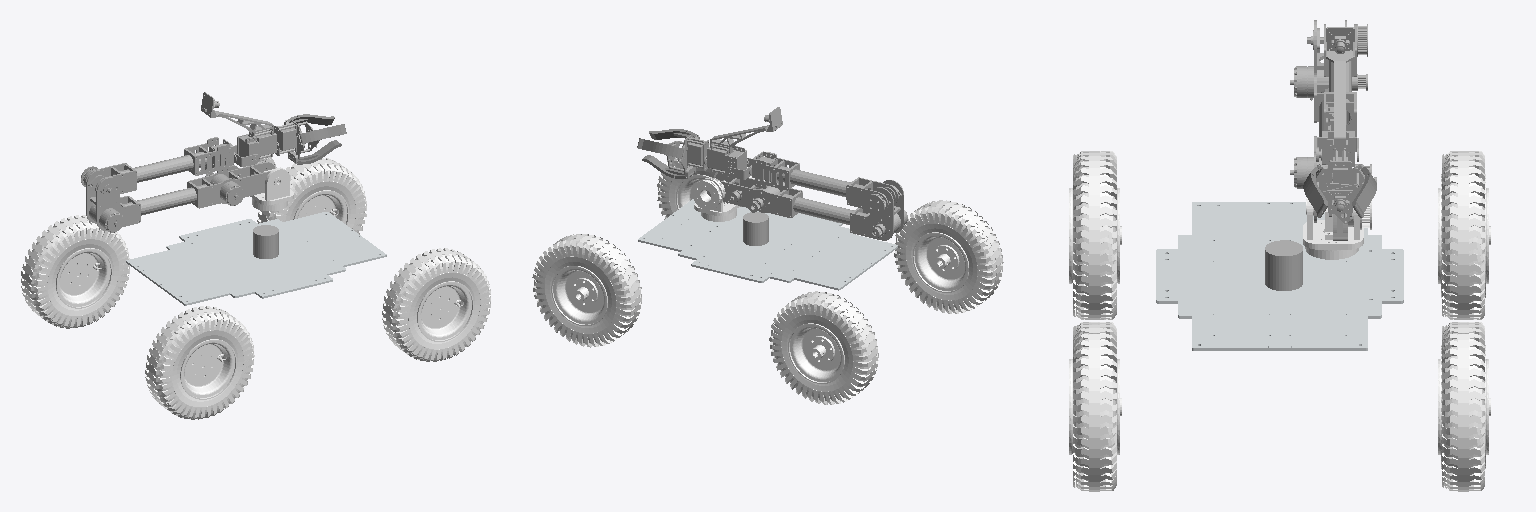
URDF robot description (explorer_sc_arm_description):
<robot
  name="explorer_sc_arm_description">
  <link
    name="base_link">
    <inertial>
      <origin
        xyz="8.38725949350081E-06 -2.28182795042473E-05 -0.002"
        rpy="0 0 0" />
      <mass
        value="1.29696154829847" />
      <inertia
        ixx="0.00839947805440125"
        ixy="4.27932542927772E-06"
        ixz="-6.97356058924118E-19"
        iyy="0.0193274605227349"
        iyz="-8.81459604938603E-19"
        izz="0.0277234800130074" />
    </inertial>
    <visual>
      <origin
        xyz="0 0 0"
        rpy="0 0 0" />
      <geometry>
        <mesh
          filename="package://explorer_sc_arm_description/meshes/base_link.STL" />
      </geometry>
      <material
        name="">
        <color
          rgba="0.898039215686275 0.917647058823529 0.929411764705882 1" />
      </material>
    </visual>
    <collision>
      <origin
        xyz="0 0 0"
        rpy="0 0 0" />
      <geometry>
        <mesh
          filename="package://explorer_sc_arm_description/meshes/base_link.STL" />
      </geometry>
    </collision>
  </link>
  <link
    name="front_back_base">
    <inertial>
      <origin
        xyz="0 -3.46944695195361E-18 0"
        rpy="0 0 0" />
      <mass
        value="0.098174770424681" />
      <inertia
        ixx="3.5792885050665E-05"
        ixy="0"
        ixz="1.6944868265256E-20"
        iyy="3.5792885050665E-05"
        iyz="-3.54804331259052E-23"
        izz="3.06796157577128E-05" />
    </inertial>
    <visual>
      <origin
        xyz="0 0 0"
        rpy="0 0 0" />
      <geometry>
        <mesh
          filename="package://explorer_sc_arm_description/meshes/front_back_base.STL" />
      </geometry>
      <material
        name="">
        <color
          rgba="0.752941176470588 0.752941176470588 0.752941176470588 1" />
      </material>
    </visual>
    <collision>
      <origin
        xyz="0 0 0"
        rpy="0 0 0" />
      <geometry>
        <mesh
          filename="package://explorer_sc_arm_description/meshes/front_back_base.STL" />
      </geometry>
    </collision>
  </link>
  <joint
    name="joint_front_back"
    type="fixed">
    <origin
      xyz="0.0244119960002226 0.00539021811108908 0.025"
      rpy="6.93889390390723E-18 -1.05100847812493E-16 1.5707963267949" />
    <parent
      link="base_link" />
    <child
      link="front_back_base" />
    <axis
      xyz="0 0 0" />
  </joint>
  <link
    name="left_up_wheel_link">
    <inertial>
      <origin
        xyz="0.00870876387834738 1.54226130000823E-05 -2.55700449977581E-06"
        rpy="0 0 0" />
      <mass
        value="0.826121794411708" />
      <inertia
        ixx="0.00519099163146927"
        ixy="-6.12960018275808E-07"
        ixz="1.49528081696616E-08"
        iyy="0.00284682541456147"
        iyz="-3.01153060214499E-07"
        izz="0.00284435059319059" />
    </inertial>
    <visual>
      <origin
        xyz="0 0 0"
        rpy="0 0 0" />
      <geometry>
        <mesh
          filename="package://explorer_sc_arm_description/meshes/left_up_wheel_link.STL" />
      </geometry>
      <material
        name="">
        <color
          rgba="1 1 1 1" />
      </material>
    </visual>
    <collision>
      <origin
        xyz="0 0 0"
        rpy="0 0 0" />
      <geometry>
        <mesh
          filename="package://explorer_sc_arm_description/meshes/left_up_wheel_link.STL" />
      </geometry>
    </collision>
  </link>
  <joint
    name="left_up_wheel_base_joint"
    type="revolute">
    <origin
      xyz="0.22551 -0.23931 -0.091104"
      rpy="-7.0265E-33 1.1082E-16 -6.5165E-17" />
    <parent
      link="front_back_base" />
    <child
      link="left_up_wheel_link" />
    <axis
      xyz="-1 0 0" />
    <limit
      lower="-3.14"
      upper="3.14"
      effort="0"
      velocity="0" />
  </joint>
  <link
    name="right_up_wheel_link">
    <inertial>
      <origin
        xyz="0.00870876387834746 1.54226130003043E-05 -2.55700449990071E-06"
        rpy="0 0 0" />
      <mass
        value="0.826121794411715" />
      <inertia
        ixx="0.00519099163146931"
        ixy="-6.12960018276579E-07"
        ixz="1.49528081688249E-08"
        iyy="0.00284682541456149"
        iyz="-3.01153060214495E-07"
        izz="0.00284435059319062" />
    </inertial>
    <visual>
      <origin
        xyz="0 0 0"
        rpy="0 0 0" />
      <geometry>
        <mesh
          filename="package://explorer_sc_arm_description/meshes/right_up_wheel_link.STL" />
      </geometry>
      <material
        name="">
        <color
          rgba="1 1 1 1" />
      </material>
    </visual>
    <collision>
      <origin
        xyz="0 0 0"
        rpy="0 0 0" />
      <geometry>
        <mesh
          filename="package://explorer_sc_arm_description/meshes/right_up_wheel_link.STL" />
      </geometry>
    </collision>
  </link>
  <joint
    name="right_up_wheel_base_joint"
    type="revolute">
    <origin
      xyz="-0.25469 -0.23931 -0.091104"
      rpy="-3.9302E-35 0 0" />
    <parent
      link="front_back_base" />
    <child
      link="right_up_wheel_link" />
    <axis
      xyz="-1 0 0" />
    <limit
      lower="-3.14"
      upper="3.14"
      effort="0"
      velocity="0" />
  </joint>
  <link
    name="left_down_wheel_link">
    <inertial>
      <origin
        xyz="0.00870876326608666 1.47924310675007E-05 -5.06424372227754E-06"
        rpy="0 0 0" />
      <mass
        value="0.82612178476788" />
      <inertia
        ixx="0.00519099162848345"
        ixy="-6.02117473244471E-07"
        ixz="1.15802053853405E-07"
        iyy="0.00284666020010173"
        iyz="-6.87193740751131E-07"
        izz="0.00284451578321366" />
    </inertial>
    <visual>
      <origin
        xyz="0 0 0"
        rpy="0 0 0" />
      <geometry>
        <mesh
          filename="package://explorer_sc_arm_description/meshes/left_down_wheel_link.STL" />
      </geometry>
      <material
        name="">
        <color
          rgba="1 1 1 1" />
      </material>
    </visual>
    <collision>
      <origin
        xyz="0 0 0"
        rpy="0 0 0" />
      <geometry>
        <mesh
          filename="package://explorer_sc_arm_description/meshes/left_down_wheel_link.STL" />
      </geometry>
    </collision>
  </link>
  <joint
    name="left_down_wheel_base_joint"
    type="revolute">
    <origin
      xyz="0.22551 0.28813 -0.091104"
      rpy="-7.0265E-33 1.1082E-16 -6.5165E-17" />
    <parent
      link="front_back_base" />
    <child
      link="left_down_wheel_link" />
    <axis
      xyz="-1 0 0" />
    <limit
      lower="-3.14"
      upper="3.14"
      effort="0"
      velocity="0" />
  </joint>
  <link
    name="right_down_wheel_link">
    <inertial>
      <origin
        xyz="0.00870876300438408 1.47921874403822E-05 -5.06420416705733E-06"
        rpy="0 0 0" />
      <mass
        value="0.826121790600066" />
      <inertia
        ixx="0.00519099164551254"
        ixy="-6.02124665108587E-07"
        ixz="1.15803221547188E-07"
        iyy="0.00284666021630053"
        iyz="-6.87193739249559E-07"
        izz="0.00284451579941808" />
    </inertial>
    <visual>
      <origin
        xyz="0 0 0"
        rpy="0 0 0" />
      <geometry>
        <mesh
          filename="package://explorer_sc_arm_description/meshes/right_down_wheel_link.STL" />
      </geometry>
      <material
        name="">
        <color
          rgba="1 1 1 1" />
      </material>
    </visual>
    <collision>
      <origin
        xyz="0 0 0"
        rpy="0 0 0" />
      <geometry>
        <mesh
          filename="package://explorer_sc_arm_description/meshes/right_down_wheel_link.STL" />
      </geometry>
    </collision>
  </link>
  <joint
    name="right_down_wheel_base_joint"
    type="revolute">
    <origin
      xyz="-0.25469 0.28813 -0.091104"
      rpy="-7.0265E-33 1.1082E-16 -6.5165E-17" />
    <parent
      link="front_back_base" />
    <child
      link="right_down_wheel_link" />
    <axis
      xyz="-1 0 0" />
    <limit
      lower="-3.14"
      upper="3.14"
      effort="0"
      velocity="0" />
  </joint>
  <link
    name="frame_link">
    <inertial>
      <origin
        xyz="-0.00888730788410459 0.0203366819685348 -0.0126291880908399"
        rpy="0 0 0" />
      <mass
        value="3.26161515055018" />
      <inertia
        ixx="0.126291282912855"
        ixy="-0.0003154449627657"
        ixz="-0.00101868654302903"
        iyy="0.0607337880926759"
        iyz="0.000453009692812155"
        izz="0.165446833262686" />
    </inertial>
    <visual>
      <origin
        xyz="0 0 0"
        rpy="0 0 0" />
      <geometry>
        <mesh
          filename="package://explorer_sc_arm_description/meshes/frame_link.STL" />
      </geometry>
      <material
        name="">
        <color
          rgba="0.6 0.6 0.6 1" />
      </material>
    </visual>
    <collision>
      <origin
        xyz="0 0 0"
        rpy="0 0 0" />
      <geometry>
        <mesh
          filename="package://explorer_sc_arm_description/meshes/frame_link.STL" />
      </geometry>
    </collision>
  </link>
  <joint
    name="robot_left_right"
    type="revolute">
    <origin
      xyz="0 0 0"
      rpy="-3.9302E-35 0 0" />
    <parent
      link="front_back_base" />
    <child
      link="frame_link" />
    <axis
      xyz="0 0 1" />
    <limit
      effort="0"
      velocity="0" />
  </joint>
  <link
    name="arm1_link">
    <inertial>
      <origin
        xyz="0.0052335465669357 -0.00145914413559915 0.0274651726476679"
        rpy="0 0 0" />
      <mass
        value="0.740834240282329" />
      <inertia
        ixx="0.000652966066260069"
        ixy="-5.20526717125778E-06"
        ixz="-0.000121877072956292"
        iyy="0.000841866459288464"
        iyz="1.44897375430067E-05"
        izz="0.000656785671162585" />
    </inertial>
    <visual>
      <origin
        xyz="0 0 0"
        rpy="0 0 0" />
      <geometry>
        <mesh
          filename="package://explorer_sc_arm_description/meshes/arm1_link.STL" />
      </geometry>
      <material
        name="">
        <color
          rgba="1 1 1 1" />
      </material>
    </visual>
    <collision>
      <origin
        xyz="0 0 0"
        rpy="0 0 0" />
      <geometry>
        <mesh
          filename="package://explorer_sc_arm_description/meshes/arm1_link.STL" />
      </geometry>
    </collision>
  </link>
  <joint
    name="arm1_bearing_joint"
    type="revolute">
    <origin
      xyz="0.06261 -0.045588 0.045"
      rpy="-3.9302E-35 0 0" />
    <parent
      link="frame_link" />
    <child
      link="arm1_link" />
    <axis
      xyz="0 0 1" />
    <limit
      lower="-1.57"
      upper="1.57"
      effort="0"
      velocity="0" />
  </joint>
  <link
    name="arm2_link">
    <inertial>
      <origin
        xyz="-0.0249935385540542 0.21625037515155 0.00630793428453136"
        rpy="0 0 0" />
      <mass
        value="0.432896616493016" />
      <inertia
        ixx="0.00856667496257"
        ixy="0.000240766742609219"
        ixz="-1.40564298528354E-05"
        iyy="0.000428467900510452"
        iyz="-0.000390988712736793"
        izz="0.00863962273660734" />
    </inertial>
    <visual>
      <origin
        xyz="0 0 0"
        rpy="0 0 0" />
      <geometry>
        <mesh
          filename="package://explorer_sc_arm_description/meshes/arm2_link.STL" />
      </geometry>
      <material
        name="">
        <color
          rgba="0.752941176470588 0.752941176470588 0.752941176470588 1" />
      </material>
    </visual>
    <collision>
      <origin
        xyz="0 0 0"
        rpy="0 0 0" />
      <geometry>
        <mesh
          filename="package://explorer_sc_arm_description/meshes/arm2_link.STL" />
      </geometry>
    </collision>
  </link>
  <joint
    name="arm2_arm1_joint"
    type="revolute">
    <origin
      xyz="0.02425 0 0.061"
      rpy="-6.9389E-18 1.6633E-16 3.3897E-15" />
    <parent
      link="arm1_link" />
    <child
      link="arm2_link" />
    <axis
      xyz="-1 0 0" />
    <limit
      lower="-2.16"
      upper="0"
      effort="0"
      velocity="0" />
  </joint>
  <link
    name="arm3_link">
    <inertial>
      <origin
        xyz="0.0059578562318367 -0.154878612953616 -0.000605125736522938"
        rpy="0 0 0" />
      <mass
        value="0.251042694943515" />
      <inertia
        ixx="0.00348716697186941"
        ixy="-0.000225815391661992"
        ixz="-9.00971751428436E-07"
        iyy="0.000105978083565339"
        iyz="-1.35332619943728E-05"
        izz="0.00352040359553672" />
    </inertial>
    <visual>
      <origin
        xyz="0 0 0"
        rpy="0 0 0" />
      <geometry>
        <mesh
          filename="package://explorer_sc_arm_description/meshes/arm3_link.STL" />
      </geometry>
      <material
        name="">
        <color
          rgba="0.752941176470588 0.752941176470588 0.752941176470588 1" />
      </material>
    </visual>
    <collision>
      <origin
        xyz="0 0 0"
        rpy="0 0 0" />
      <geometry>
        <mesh
          filename="package://explorer_sc_arm_description/meshes/arm3_link.STL" />
      </geometry>
    </collision>
  </link>
  <joint
    name="arm3_arm2_joint"
    type="revolute">
    <origin
      xyz="-0.0175 0.37413 0.065"
      rpy="0 0 0" />
    <parent
      link="arm2_link" />
    <child
      link="arm3_link" />
    <axis
      xyz="-1 0 0" />
    <limit
      lower="0"
      upper="3.14"
      effort="0"
      velocity="0" />
  </joint>
  <link
    name="pt1_link">
    <inertial>
      <origin
        xyz="0 -0.0101240439715932 5.55111512312578E-17"
        rpy="0 0 0" />
      <mass
        value="0.0133110522817061" />
      <inertia
        ixx="2.50594470944606E-06"
        ixy="1.8090208942906E-20"
        ixz="6.92455763665459E-20"
        iyy="7.195366856988E-06"
        iyz="4.80095627525763E-21"
        izz="8.79976743065138E-06" />
    </inertial>
    <visual>
      <origin
        xyz="0 0 0"
        rpy="0 0 0" />
      <geometry>
        <mesh
          filename="package://explorer_sc_arm_description/meshes/pt1_link.STL" />
      </geometry>
      <material
        name="">
        <color
          rgba="0.752941176470588 0.752941176470588 0.752941176470588 1" />
      </material>
    </visual>
    <collision>
      <origin
        xyz="0 0 0"
        rpy="0 0 0" />
      <geometry>
        <mesh
          filename="package://explorer_sc_arm_description/meshes/pt1_link.STL" />
      </geometry>
    </collision>
  </link>
  <joint
    name="pt1_arm_joint"
    type="revolute">
    <origin
      xyz="-0.0005 -0.29839 -0.011103"
      rpy="0.0037086 1.6759E-15 -2.5288E-16" />
    <parent
      link="arm3_link" />
    <child
      link="pt1_link" />
    <axis
      xyz="0 -1 0" />
    <limit
      lower="-1.72"
      upper="1.42"
      effort="0"
      velocity="0" />
  </joint>
  <link
    name="pt2_link">
    <inertial>
      <origin
        xyz="0.0284666409378878 -0.012296524956937 0.0208881619219742"
        rpy="0 0 0" />
      <mass
        value="0.222075702540908" />
      <inertia
        ixx="0.000448658968824595"
        ixy="3.74295966975415E-06"
        ixz="-3.76370485964757E-06"
        iyy="0.000237172522813216"
        iyz="-0.000148614817626507"
        izz="0.00025135168677074" />
    </inertial>
    <visual>
      <origin
        xyz="0 0 0"
        rpy="0 0 0" />
      <geometry>
        <mesh
          filename="package://explorer_sc_arm_description/meshes/pt2_link.STL" />
      </geometry>
      <material
        name="">
        <color
          rgba="0.752941176470588 0.752941176470588 0.752941176470588 1" />
      </material>
    </visual>
    <collision>
      <origin
        xyz="0 0 0"
        rpy="0 0 0" />
      <geometry>
        <mesh
          filename="package://explorer_sc_arm_description/meshes/pt2_link.STL" />
      </geometry>
    </collision>
  </link>
  <joint
    name="pt2_pt1_joint"
    type="revolute">
    <origin
      xyz="-0.02555 -0.031 0"
      rpy="-1.0528E-14 1.3913E-14 2.3915E-17" />
    <parent
      link="pt1_link" />
    <child
      link="pt2_link" />
    <axis
      xyz="-1 0 0" />
    <limit
      lower="-1.81"
      upper="0.3"
      effort="0"
      velocity="0" />
  </joint>
  <link
    name="gripper_rotate_link">
    <inertial>
      <origin
        xyz="-8.56406842220103E-06 -0.033251813169419 0.00781392269582817"
        rpy="0 0 0" />
      <mass
        value="0.126580619621662" />
      <inertia
        ixx="7.83741507963795E-05"
        ixy="-4.70272447047957E-08"
        ixz="-1.20878400844159E-08"
        iyy="4.26849732289127E-05"
        iyz="-6.47305761247518E-06"
        izz="5.78578684503002E-05" />
    </inertial>
    <visual>
      <origin
        xyz="0 0 0"
        rpy="0 0 0" />
      <geometry>
        <mesh
          filename="package://explorer_sc_arm_description/meshes/gripper_rotate_link.STL" />
      </geometry>
      <material
        name="">
        <color
          rgba="0.752941176470588 0.752941176470588 0.752941176470588 1" />
      </material>
    </visual>
    <collision>
      <origin
        xyz="0 0 0"
        rpy="0 0 0" />
      <geometry>
        <mesh
          filename="package://explorer_sc_arm_description/meshes/gripper_rotate_link.STL" />
      </geometry>
    </collision>
  </link>
  <joint
    name="rotate_joint"
    type="revolute">
    <origin
      xyz="0.02985 -0.06535 0.001"
      rpy="1.0648E-14 -3.4915E-15 -3.4915E-15" />
    <parent
      link="pt2_link" />
    <child
      link="gripper_rotate_link" />
    <axis
      xyz="0 -1 0" />
    <limit
      lower="-1.57"
      upper="1.57"
      effort="0"
      velocity="0" />
  </joint>
  <link
    name="finger1_link">
    <inertial>
      <origin
        xyz="1.12793635542729E-10 -0.0489586901331791 0.000328193271946525"
        rpy="0 0 0" />
      <mass
        value="0.0141817215051188" />
      <inertia
        ixx="1.27275057009474E-05"
        ixy="6.40870905888493E-14"
        ixz="-3.60667592864375E-13"
        iyy="1.12154886670789E-06"
        iyz="-2.23221813422532E-06"
        izz="1.2480727742978E-05" />
    </inertial>
    <visual>
      <origin
        xyz="0 0 0"
        rpy="0 0 0" />
      <geometry>
        <mesh
          filename="package://explorer_sc_arm_description/meshes/finger1_link.STL" />
      </geometry>
      <material
        name="">
        <color
          rgba="0.6 0.6 0.6 1" />
      </material>
    </visual>
    <collision>
      <origin
        xyz="0 0 0"
        rpy="0 0 0" />
      <geometry>
        <mesh
          filename="package://explorer_sc_arm_description/meshes/finger1_link.STL" />
      </geometry>
    </collision>
  </link>
  <joint
    name="finger1_joint"
    type="revolute">
    <origin
      xyz="-0.033775 -0.0368 0.0195"
      rpy="3.4556E-30 -1.0472 -4.3437E-19" />
    <parent
      link="gripper_rotate_link" />
    <child
      link="finger1_link" />
    <axis
      xyz="1 0 0" />
    <limit
      lower="-0.314"
      upper="0.1396"
      effort="0"
      velocity="0" />
  </joint>
  <link
    name="finger2_link">
    <inertial>
      <origin
        xyz="1.38777878078145E-17 -0.0491989260888198 0.00026592383553542"
        rpy="0 0 0" />
      <mass
        value="0.0142516570501078" />
      <inertia
        ixx="1.29061026399681E-05"
        ixy="-5.52854885734898E-22"
        ixz="5.7192315789071E-22"
        iyy="1.13283292129298E-06"
        iyz="-2.27545016132449E-06"
        izz="1.26481195573146E-05" />
    </inertial>
    <visual>
      <origin
        xyz="0 0 0"
        rpy="0 0 0" />
      <geometry>
        <mesh
          filename="package://explorer_sc_arm_description/meshes/finger2_link.STL" />
      </geometry>
      <material
        name="">
        <color
          rgba="0.6 0.6 0.6 1" />
      </material>
    </visual>
    <collision>
      <origin
        xyz="0 0 0"
        rpy="0 0 0" />
      <geometry>
        <mesh
          filename="package://explorer_sc_arm_description/meshes/finger2_link.STL" />
      </geometry>
    </collision>
  </link>
  <joint
    name="finger2_joint"
    type="revolute">
    <origin
      xyz="0 -0.0368 -0.039"
      rpy="3.1416 -1.5777E-30 -3.1416" />
    <parent
      link="gripper_rotate_link" />
    <child
      link="finger2_link" />
    <axis
      xyz="1 0 0" />
    <limit
      lower="-0.314"
      upper="0.1396"
      effort="0"
      velocity="0" />
  </joint>
  <link
    name="finger3_link">
    <inertial>
      <origin
        xyz="4.16333634234434E-17 -0.0491989260888198 0.000265923835535364"
        rpy="0 0 0" />
      <mass
        value="0.0142516570501078" />
      <inertia
        ixx="1.29061026399682E-05"
        ixy="2.97499298888809E-21"
        ixz="3.81164826264435E-21"
        iyy="1.13283292129302E-06"
        iyz="-2.27545016132449E-06"
        izz="1.26481195573146E-05" />
    </inertial>
    <visual>
      <origin
        xyz="0 0 0"
        rpy="0 0 0" />
      <geometry>
        <mesh
          filename="package://explorer_sc_arm_description/meshes/finger3_link.STL" />
      </geometry>
      <material
        name="">
        <color
          rgba="0.6 0.6 0.6 1" />
      </material>
    </visual>
    <collision>
      <origin
        xyz="0 0 0"
        rpy="0 0 0" />
      <geometry>
        <mesh
          filename="package://explorer_sc_arm_description/meshes/finger3_link.STL" />
      </geometry>
    </collision>
  </link>
  <joint
    name="finger3_joint"
    type="revolute">
    <origin
      xyz="0.033775 -0.0368 0.0195"
      rpy="3.4556E-30 1.0472 4.33E-19" />
    <parent
      link="gripper_rotate_link" />
    <child
      link="finger3_link" />
    <axis
      xyz="-1 0 0" />
    <limit
      lower="-0.1396"
      upper="0.314"
      effort="0"
      velocity="0" />
  </joint>
  <link name="gripper_link"/>
  <joint
    name="gripper_joint" 
    type="fixed">
    <origin 
      xyz="0.08 0 0" 
      rpy="0 0 0" />
    <parent 
      link="gripper_rotate_link" />
    <child 
      link="gripper_link" />
  </joint>
</robot>

--- Facts derived from the render (not from the file) ---
Views: 3 orthographic renders of the robot side by side, from view 1: azimuth 30°, elevation 25°; view 2: azimuth 150°, elevation 25°; view 3: azimuth 270°, elevation 25°.
Robot: explorer_sc_arm_description — 17 links, 16 joints (14 revolute, 2 fixed); root link base_link; default pose: all joints at 0.
Visible links, largest first — view 1: base_link, right_up_wheel_link, right_down_wheel_link, left_down_wheel_link, arm2_link, left_up_wheel_link, arm3_link, pt2_link, arm1_link, gripper_rotate_link, front_back_base; view 2: base_link, left_up_wheel_link, left_down_wheel_link, right_down_wheel_link, arm2_link, arm3_link, pt2_link, right_up_wheel_link, arm1_link, gripper_rotate_link, front_back_base; view 3: base_link, right_up_wheel_link, left_up_wheel_link, right_down_wheel_link, left_down_wheel_link, pt2_link, arm2_link, arm1_link, gripper_rotate_link, arm3_link, front_back_base, finger3_link (+1 smaller).
Boxes of the visible links, x1,y1,x2,y2 form: base_link: [126, 212, 386, 305]; right_up_wheel_link: [382, 248, 490, 361]; right_down_wheel_link: [145, 306, 254, 419]; left_down_wheel_link: [21, 215, 129, 328]; arm2_link: [86, 158, 277, 232]; left_up_wheel_link: [257, 158, 366, 234]; arm3_link: [81, 137, 233, 193]; pt2_link: [201, 92, 276, 162]; arm1_link: [246, 157, 293, 210]; gripper_rotate_link: [274, 120, 319, 163]; front_back_base: [253, 225, 278, 258]; base_link: [638, 199, 897, 290]; left_up_wheel_link: [532, 234, 641, 347]; left_down_wheel_link: [769, 291, 878, 404]; right_down_wheel_link: [894, 200, 1003, 313]; arm2_link: [706, 173, 907, 240]; arm3_link: [752, 151, 898, 215]; pt2_link: [707, 107, 782, 176]; right_up_wheel_link: [657, 143, 754, 219]; arm1_link: [692, 172, 739, 221]; gripper_rotate_link: [666, 135, 708, 178]; front_back_base: [743, 212, 768, 245]; base_link: [1156, 202, 1403, 350]; right_up_wheel_link: [1069, 322, 1121, 491]; left_up_wheel_link: [1438, 322, 1490, 491]; right_down_wheel_link: [1069, 151, 1121, 319]; left_down_wheel_link: [1438, 151, 1490, 319]; pt2_link: [1317, 27, 1354, 172]; arm2_link: [1290, 20, 1376, 226]; arm1_link: [1303, 198, 1371, 259]; gripper_rotate_link: [1316, 148, 1364, 223]; arm3_link: [1307, 24, 1367, 136]; front_back_base: [1265, 240, 1302, 290]; finger3_link: [1352, 167, 1376, 217].
Size in the robot's own frame: 0.748 by 0.5486 by 0.5043 metres.
Meshes: 16 distinct files referenced, 15 mesh visuals loaded (15 binary STL); not drawn: 1 (reference not matched to a file when rendering).